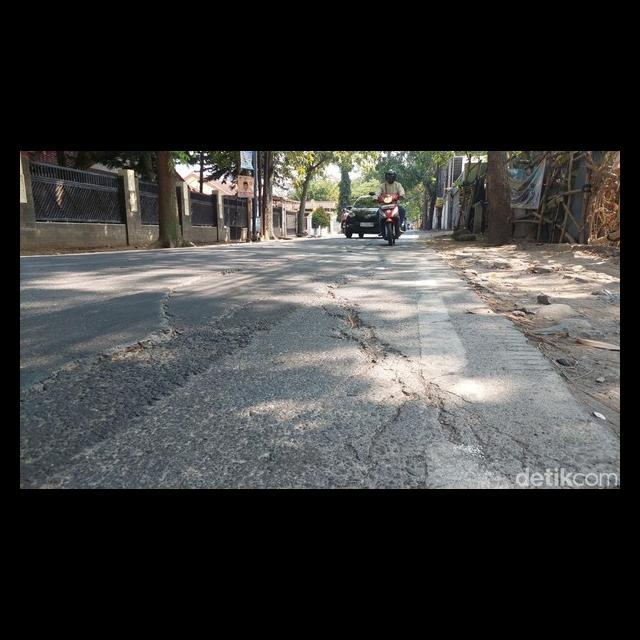lubang_kecil: (209, 264, 247, 280)
retak_memanjang: (320, 279, 511, 485), (20, 284, 186, 395)
